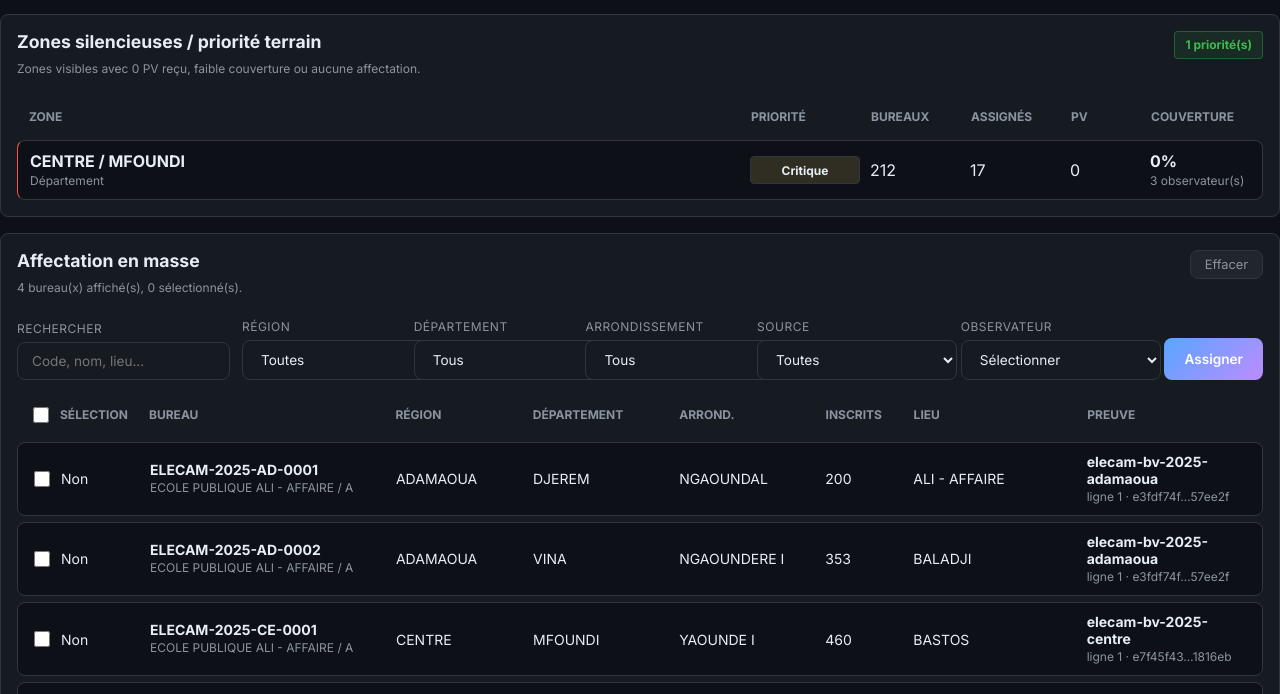
FieldOpsTab › affiche le référentiel ELECAM 2025 et filtre les bureaux par région lisible
(page scrolled)
Expected: the heading "Zones silencieuses / priorité terrain" is shown, [17,31,321,52]
Expected: the text "CENTRE / MFOUNDI" is shown, [30,151,185,171]
Step 1. Select "CENTRE" in the 1st dropdown → (342, 360), box [242,340,442,380]
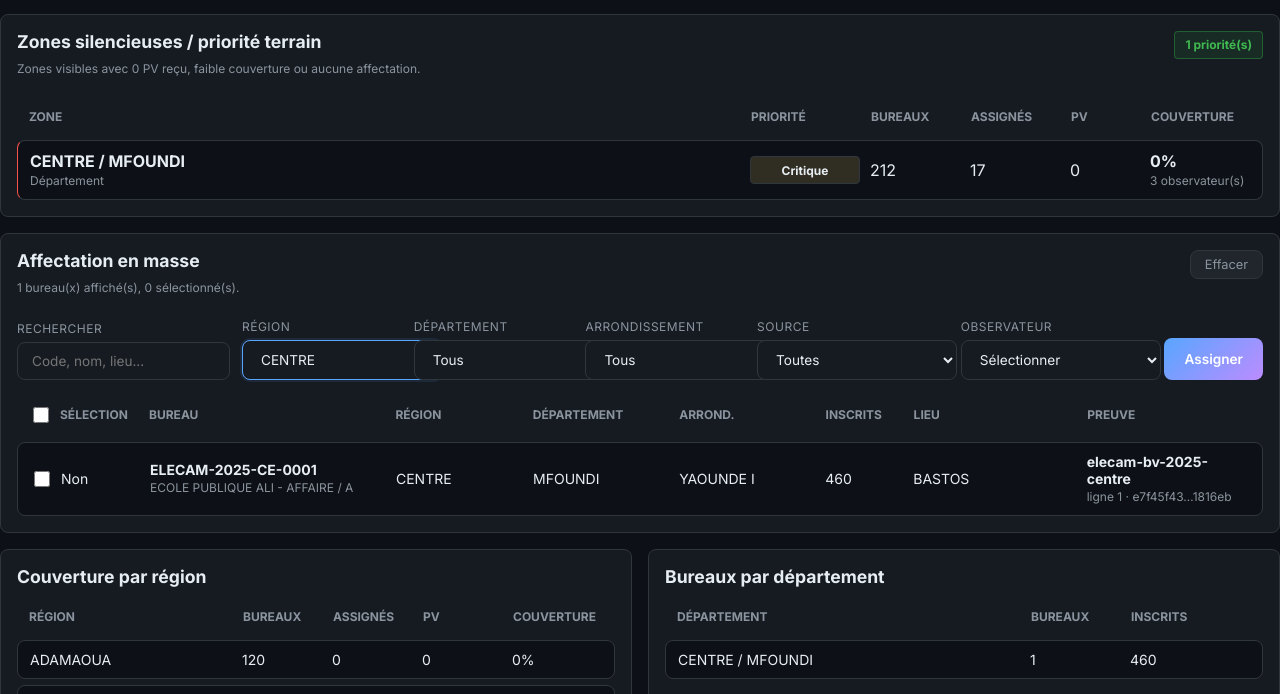
Expected: the text "ELECAM-2025-CE-0001" is shown, [150,461,317,478]
Expected: the text "ELECAM-2025-AD-0001" is gone
Step 2. Select "Toutes" in the 1st dropdown → (342, 360), box [242,340,442,380]
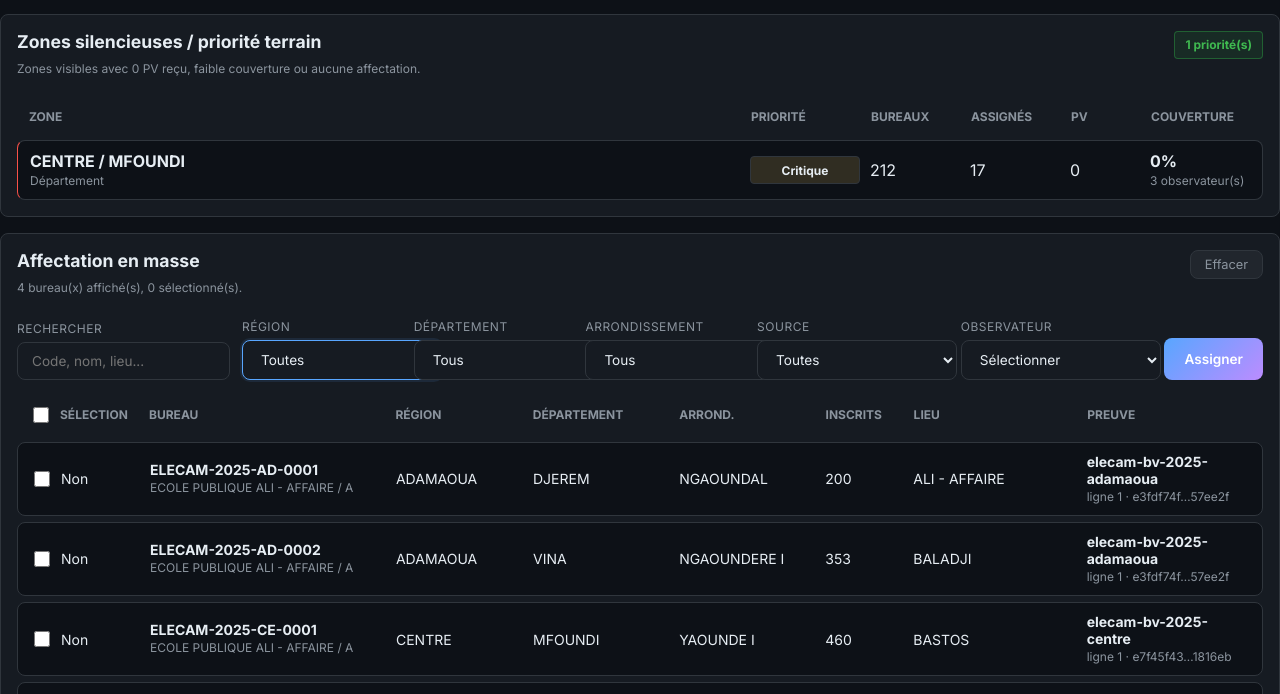
Step 3. Select "elecam-bv-2025-centre" in the dropdown below "Source" → (857, 360), box [757,340,957,380]
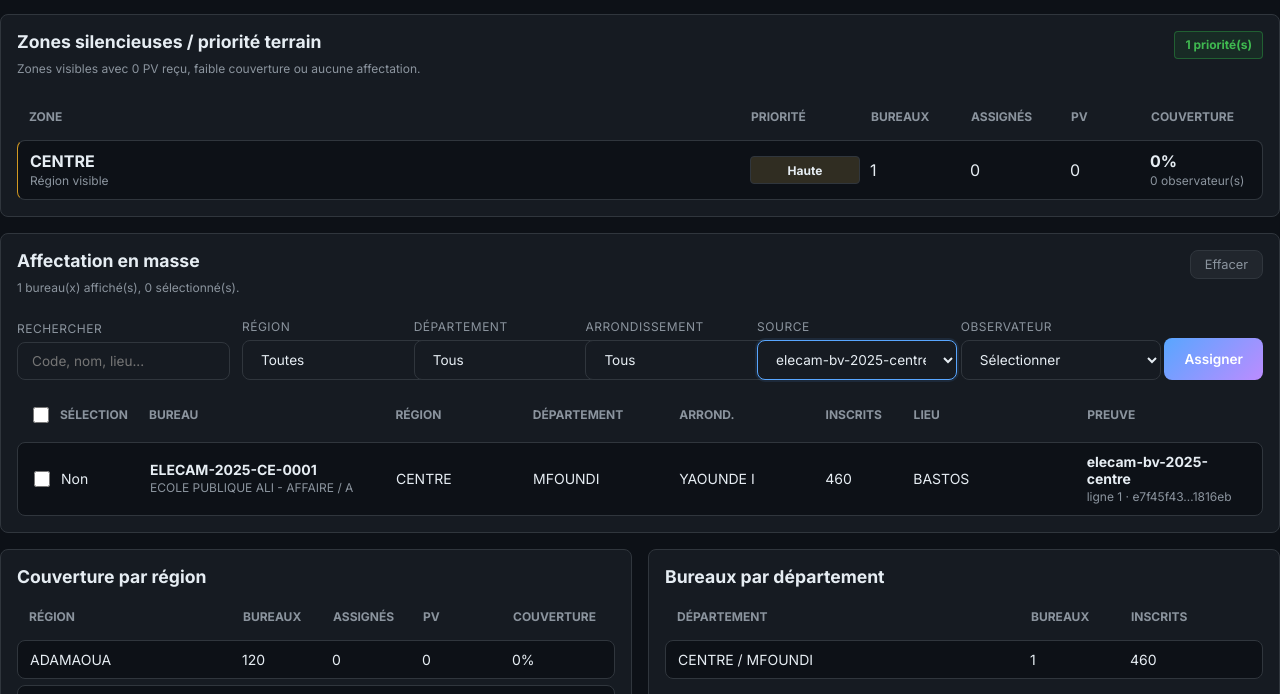
Expected: the text "ELECAM-2025-CE-0001" is shown, [150,461,317,478]
Expected: the text "ELECAM-2025-AD-0001" is gone
